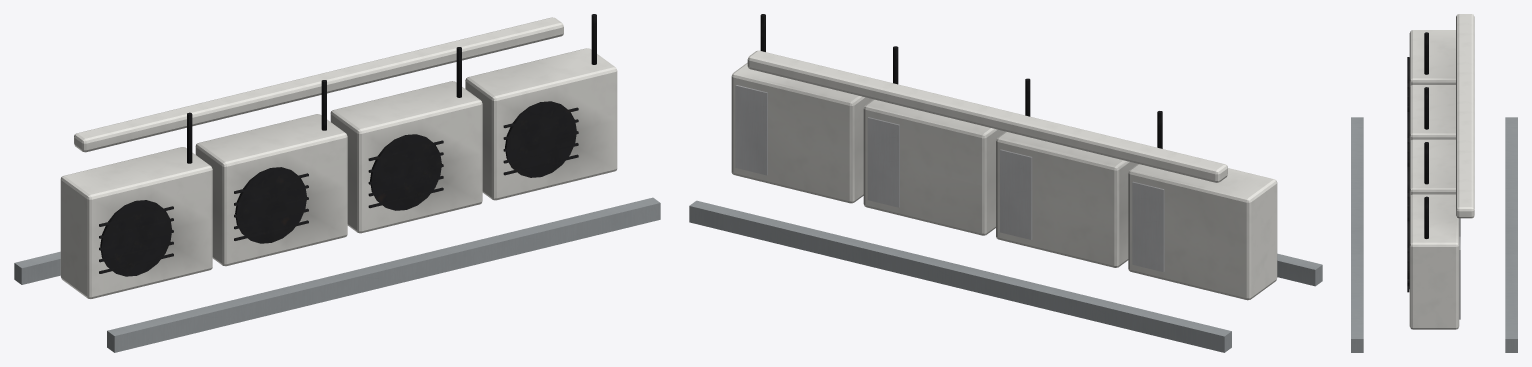
File: roof_condensers.glb
The picture shows the model from 3 angles, left to right: view 1: azimuth 30°, elevation 25°; view 2: azimuth 150°, elevation 25°; view 3: azimuth 270°, elevation 25°; orthographic projection. The views are drawn at different scales.
Visible parts, largest first — view 1: roof_condensers_plastic_white, roof_condensers_cast_iron, roof_condensers_galvanised, roof_condensers_rubber; view 2: roof_condensers_plastic_white, roof_condensers_galvanised, roof_condensers_aluminium, roof_condensers_rubber; view 3: roof_condensers_plastic_white, roof_condensers_galvanised, roof_condensers_rubber, roof_condensers_cast_iron, roof_condensers_aluminium.
Part boxes in pixels (x1,y1,x2,y2): roof_condensers_plastic_white: (60,17,617,299); roof_condensers_cast_iron: (99,101,578,276); roof_condensers_galvanised: (14,197,660,352); roof_condensers_rubber: (187,14,596,163); roof_condensers_plastic_white: (731,50,1277,300); roof_condensers_galvanised: (689,200,1322,352); roof_condensers_aluminium: (735,85,1164,272); roof_condensers_rubber: (760,14,1162,148); roof_condensers_plastic_white: (1409,14,1474,329); roof_condensers_galvanised: (1351,117,1517,352); roof_condensers_rubber: (1424,32,1428,238); roof_condensers_cast_iron: (1407,57,1409,292); roof_condensers_aluminium: (1459,218,1460,319).
Size of what is drawn, in the model's own units: 3.4 by 1.05 by 1.08.
5 materials, 5 textured.
